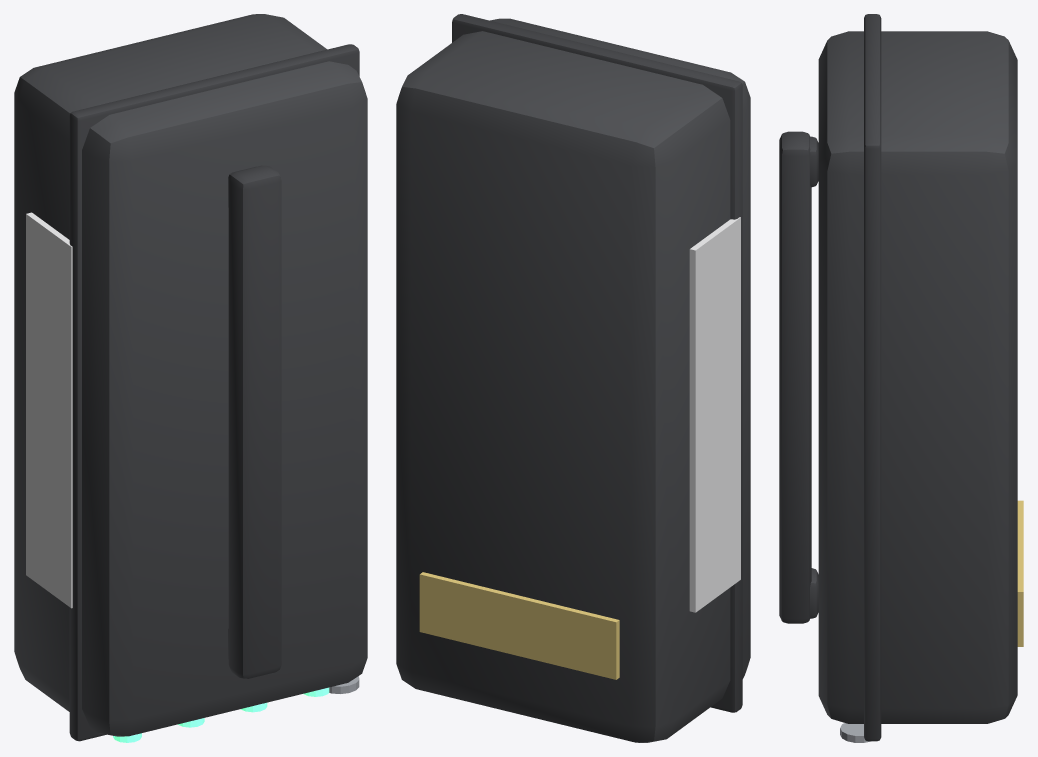
The model's file is BAT.glb.
3 views of the same model, side by side, from view 1: azimuth 30°, elevation 25°; view 2: azimuth 150°, elevation 25°; view 3: azimuth 270°, elevation 25° (orthographic). The views are drawn at different scales.
Parts seen in each view (by area): view 1: BAT_pack, BAT_bar, BAT_label, BAT_band; view 2: BAT_pack, BAT_label, BAT_contacts, BAT_band; view 3: BAT_pack, BAT_bar, BAT_band, BAT_contacts, BAT_btn, BAT_stem, BAT_stem.001.
Boxes of the visible parts, <box> form: BAT_pack: <box>14,14,367,736</box>; BAT_bar: <box>228,165,281,678</box>; BAT_label: <box>26,212,72,608</box>; BAT_band: <box>69,44,359,741</box>; BAT_pack: <box>396,18,750,742</box>; BAT_label: <box>689,217,740,612</box>; BAT_contacts: <box>419,572,619,679</box>; BAT_band: <box>452,14,742,712</box>; BAT_pack: <box>818,31,1017,723</box>; BAT_bar: <box>779,131,811,623</box>; BAT_band: <box>864,14,881,741</box>; BAT_contacts: <box>1017,500,1023,646</box>; BAT_btn: <box>840,723,870,742</box>; BAT_stem: <box>810,136,818,187</box>; BAT_stem.001: <box>810,568,818,618</box>.
Bounding box in the file's own units: 0.0728 × 0.1534 × 0.0565.
